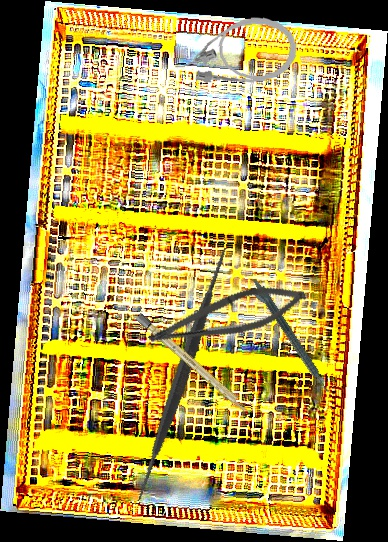Cannula: (171, 13, 300, 90)
Handpiece: (246, 277, 332, 398)
Micro Scissor: (143, 271, 311, 364)
Scalpel Handle: (135, 312, 253, 417)
Spatula Surgical: (50, 242, 313, 507)
